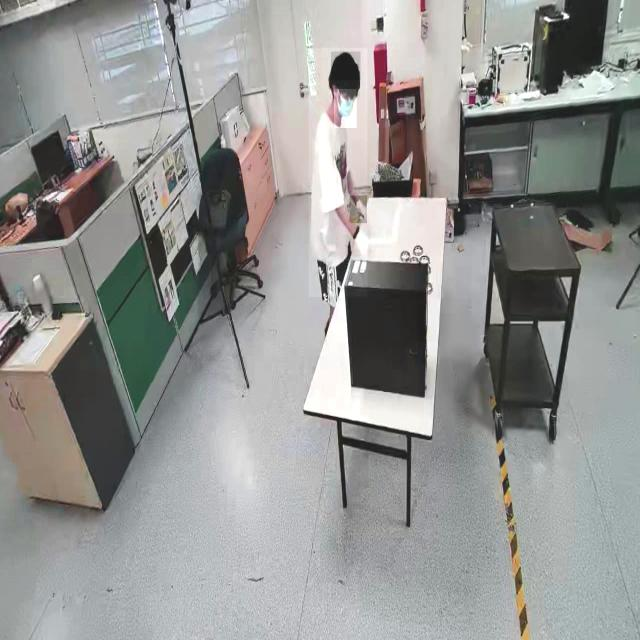face_mask: (334, 89, 356, 128)
hand_glove: (350, 222, 370, 254), (349, 196, 367, 223)
head_nohelmet: (330, 51, 360, 81)
person: (308, 48, 368, 298)
